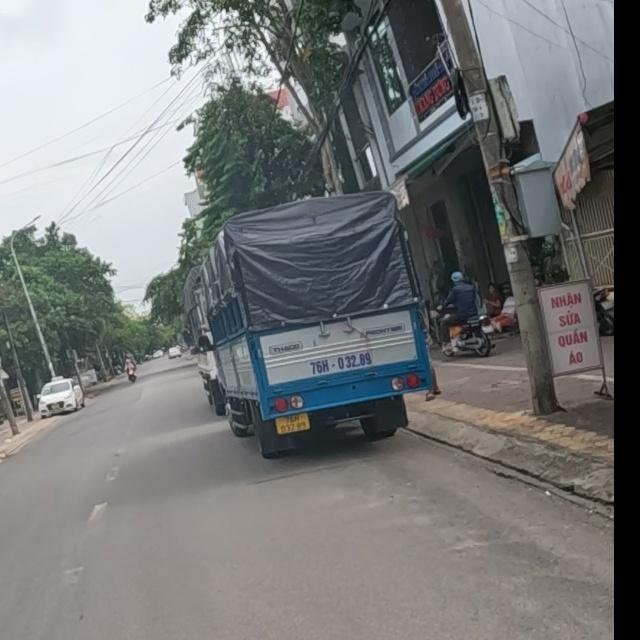license-plate: (274, 412, 311, 436)
